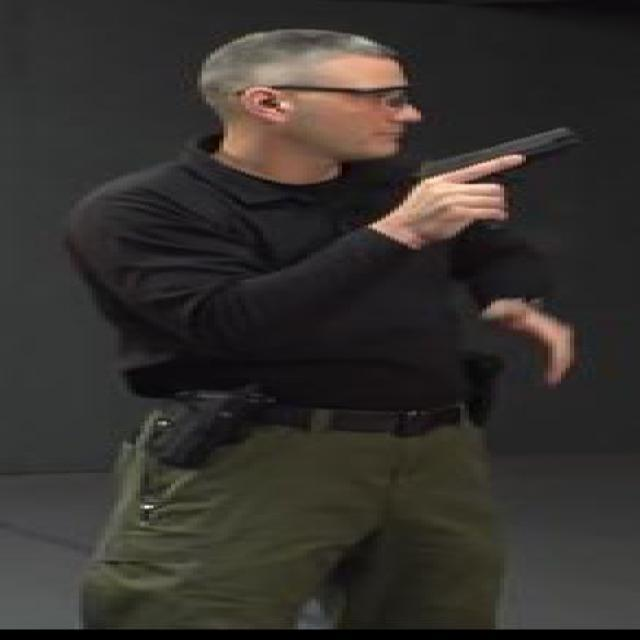gun: (408, 125, 588, 222)
